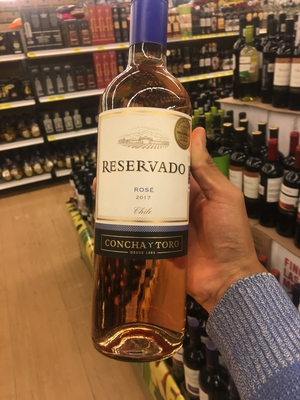reservado rose: (94, 8, 194, 355)
